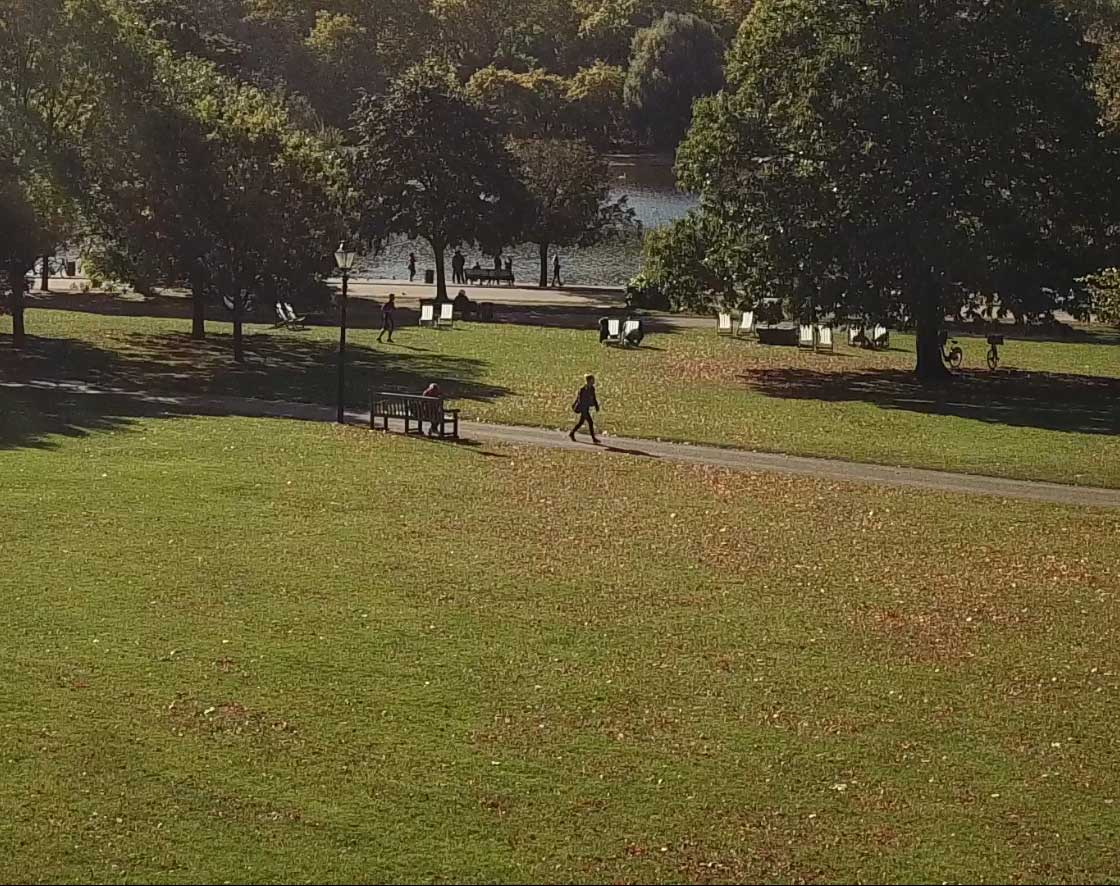tree: (679, 4, 1112, 405), (76, 53, 351, 374), (358, 62, 532, 323), (482, 113, 609, 296)
